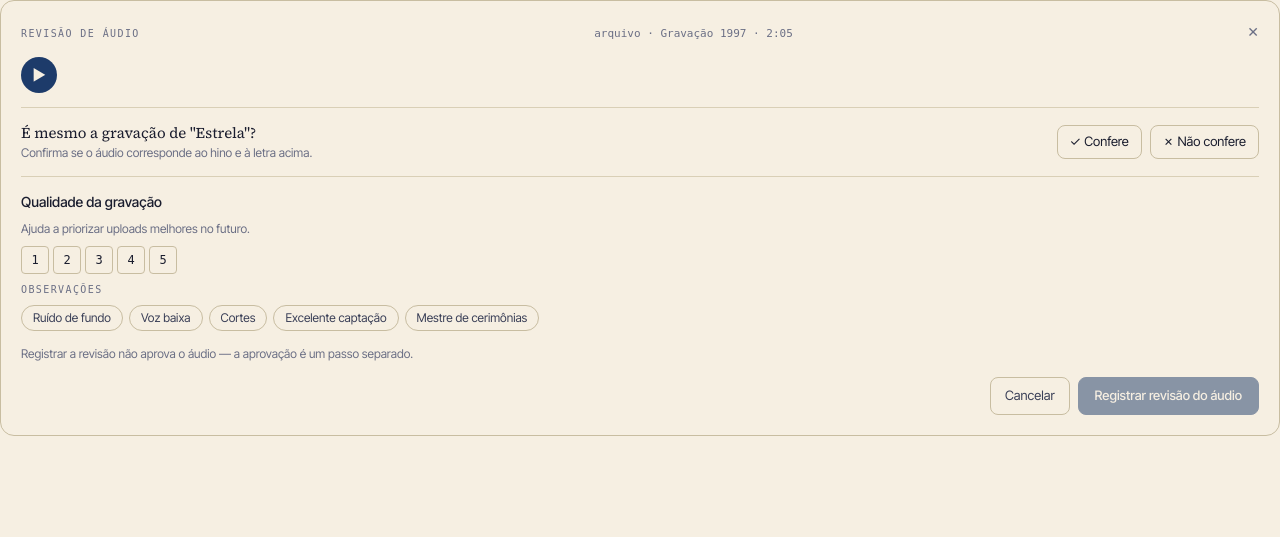
Test: AudioReviewDrawer — 5C.14 (divergência) › `Não confere` exibe o selector de motivo e desabilita o rating
The image size is (1280, 537).
Click the button with test id "audio-match-no".
click(1204, 142)  # box x1=1150 y1=125 x2=1259 y2=158
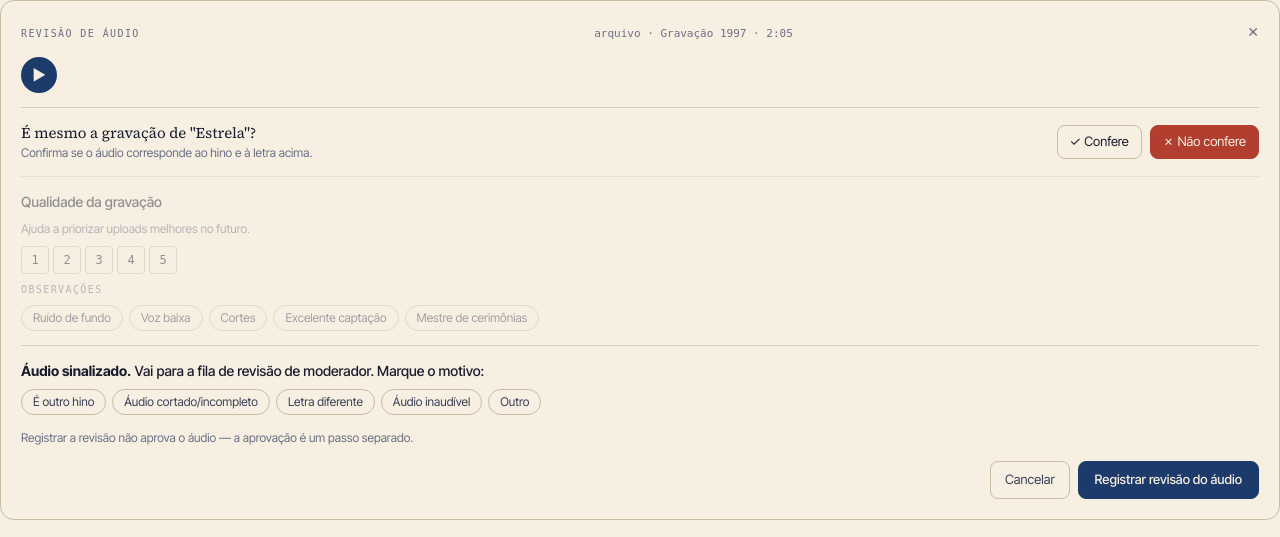
Expected: the element with test id "mismatch-block" is shown, x1=21 y1=345 x2=1259 y2=415
Expected: the number of buttons with test id "mismatch-chip" is 5, x1=21 y1=389 x2=106 y2=415; x1=112 y1=389 x2=270 y2=415; x1=276 y1=389 x2=375 y2=415; x1=381 y1=389 x2=482 y2=415; x1=488 y1=389 x2=541 y2=415
Expected: the button with test id "quality-star" showing "3" is disabled, x1=85 y1=246 x2=113 y2=274
